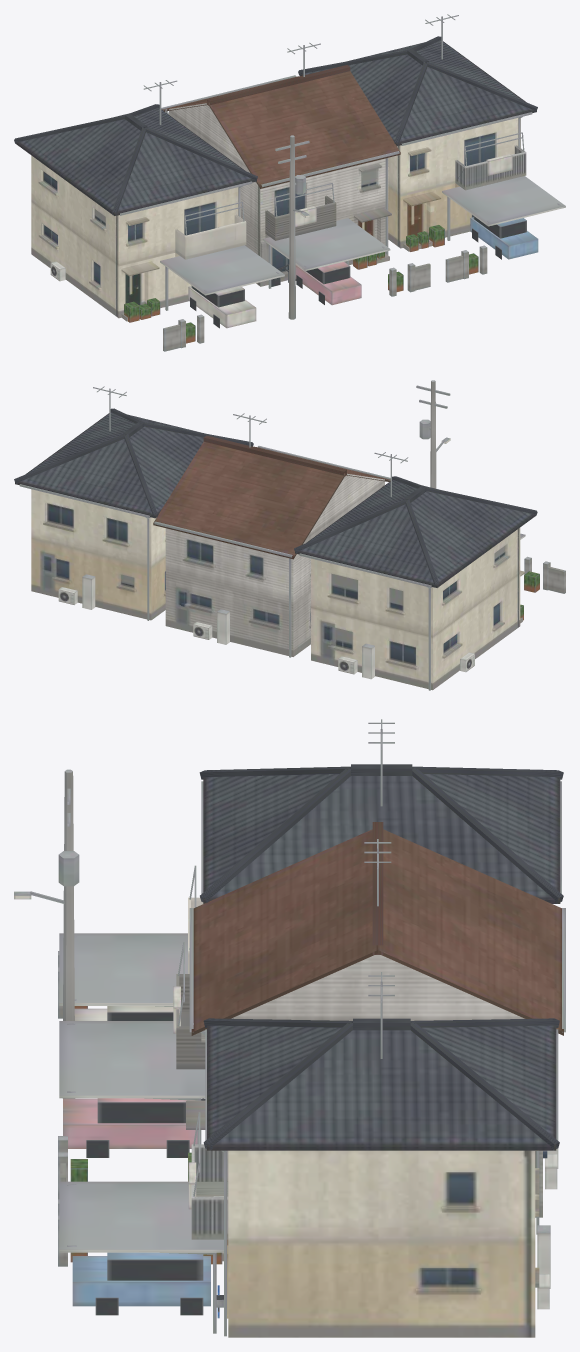
Rendered from tokyo_house_a.glb.
3 views of the same model, one above another, from view 1: azimuth 30°, elevation 25°; view 2: azimuth 150°, elevation 25°; view 3: azimuth 270°, elevation 25° (orthographic). The views are drawn at different scales.
Visible parts, largest first — view 1: tokyo_house_a; view 2: tokyo_house_a; view 3: tokyo_house_a.
Boxes of the visible parts, x1,y1,x2,y2 form: tokyo_house_a: (14,14,565,351); tokyo_house_a: (14,380,565,690); tokyo_house_a: (14,719,565,1337).
Size of the model in its own units: 23.09 by 9.63 by 14.38.
1 material, 1 textured.
